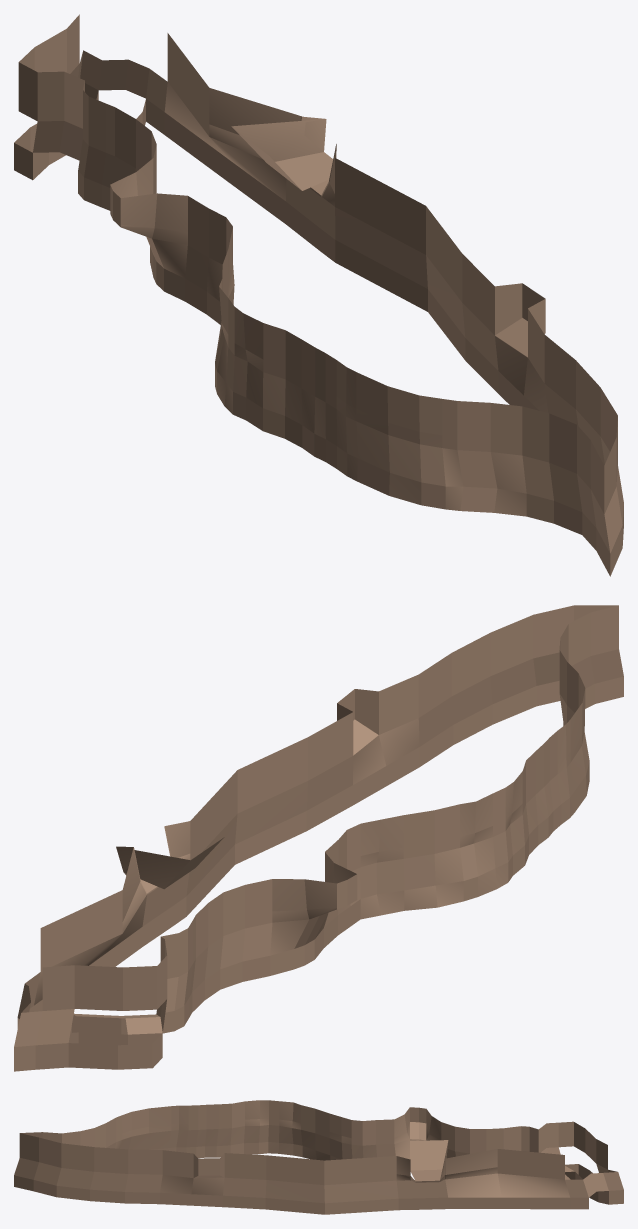
Rendered from Cliffs.FBX.
The picture shows the model from 3 angles, top to bottom: view 1: azimuth 30°, elevation 25°; view 2: azimuth 150°, elevation 25°; view 3: azimuth 270°, elevation 25°; orthographic projection. The views are drawn at different scales.
Visible parts, largest first — view 1: Cliffs; view 2: Cliffs; view 3: Cliffs.
Boxes of the visible parts, box(x1,y1,x2,y2) form: Cliffs: box(14, 14, 623, 576); Cliffs: box(14, 605, 623, 1071); Cliffs: box(14, 1100, 623, 1214).
Size of the model in its own units: 76.87 by 32.92 by 303.
